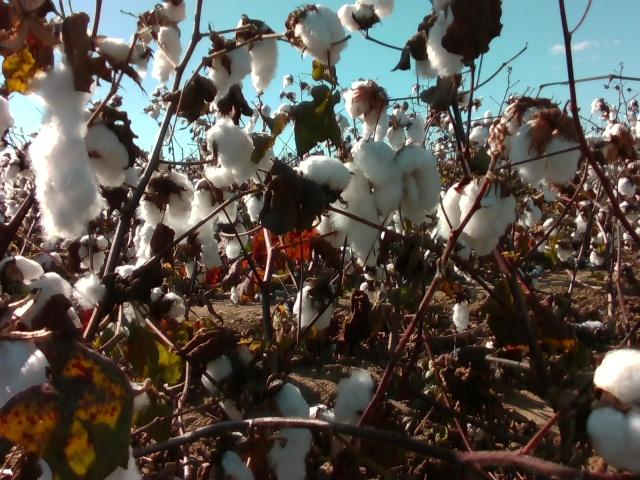cotton_ready: (27, 66, 103, 239), (335, 139, 405, 266), (588, 349, 640, 472), (439, 177, 517, 256), (0, 315, 51, 411), (414, 7, 478, 78), (512, 119, 586, 180), (74, 266, 146, 327), (270, 379, 313, 480), (199, 345, 252, 425), (84, 113, 140, 187), (332, 369, 376, 454), (494, 98, 552, 158), (292, 4, 346, 67), (396, 147, 440, 220), (234, 19, 279, 90), (142, 172, 194, 226), (20, 273, 69, 330), (207, 43, 252, 104), (345, 81, 390, 142), (206, 123, 257, 173), (179, 225, 220, 280), (294, 155, 352, 190), (194, 180, 237, 227), (338, 0, 396, 34), (294, 287, 337, 331), (152, 23, 183, 83), (313, 202, 348, 252), (104, 442, 144, 480), (248, 133, 275, 184), (145, 288, 185, 320), (208, 453, 253, 480), (78, 235, 109, 272), (125, 382, 152, 424), (221, 223, 250, 260), (100, 38, 134, 65), (0, 97, 15, 139)
